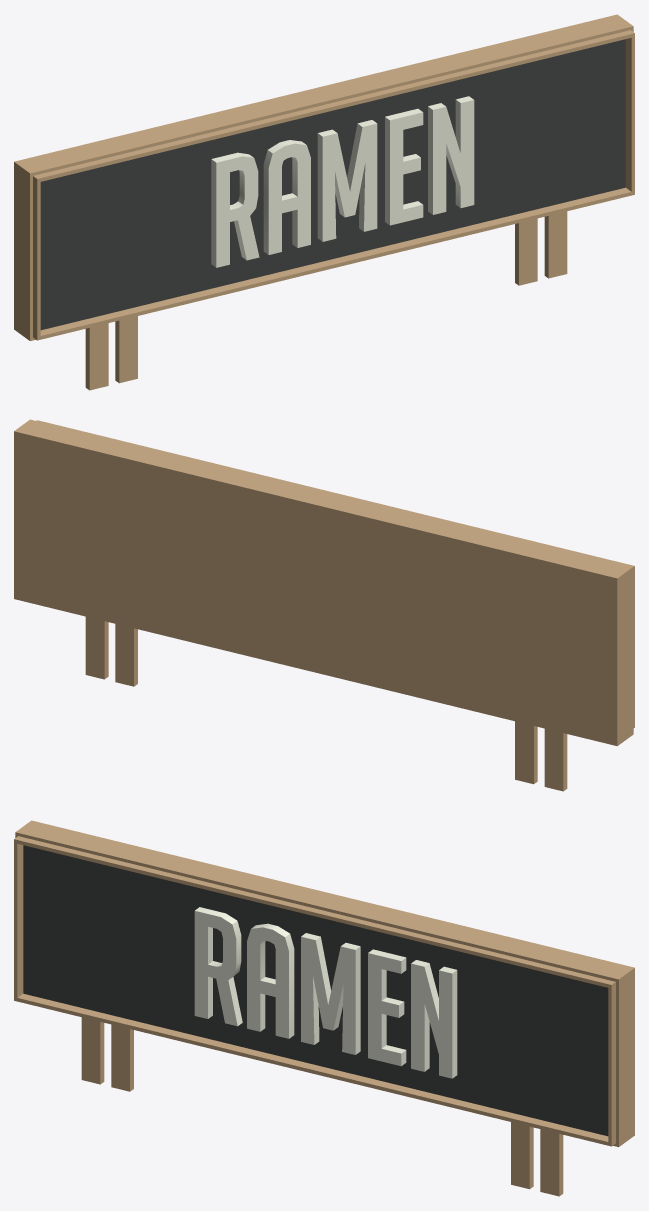
Rendered from SM_sign_ramen_english.fbx.
3 renders of one model, top to bottom at view 1: azimuth 30°, elevation 25°; view 2: azimuth 150°, elevation 25°; view 3: azimuth 330°, elevation 25°, orthographic.
Parts seen in each view (by area): view 1: Object041; view 2: Object041; view 3: Object041.
Boxes of the visible parts, <box> form: Object041: <box>14,14,634,390</box>; Object041: <box>14,419,634,791</box>; Object041: <box>14,820,634,1196</box>.
Size of the model in its own units: 153 by 8.94 by 56.74.
